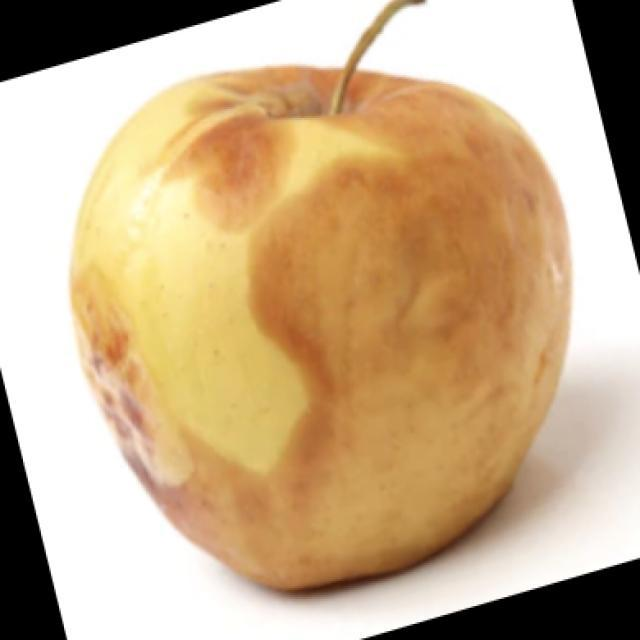Rotten: (94, 58, 558, 592)
